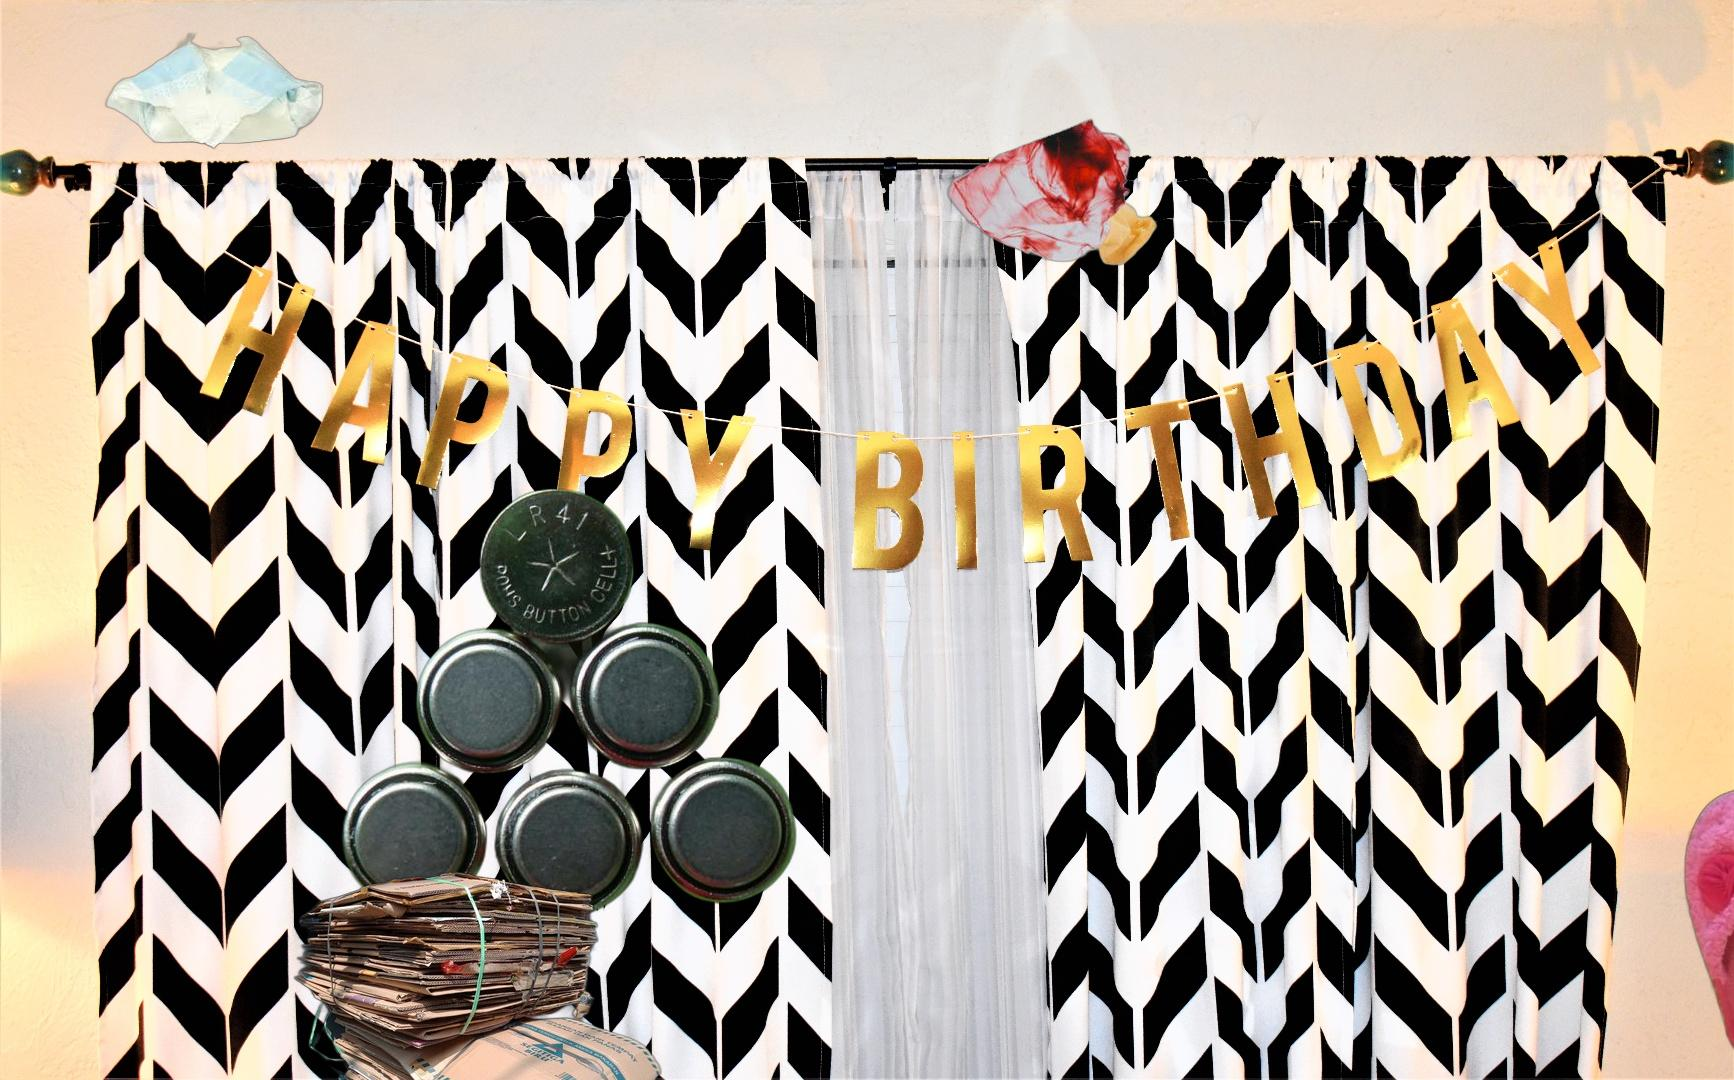battery: (338, 484, 800, 919)
plastic-bag: (944, 117, 1161, 268)
shoes: (1681, 765, 1734, 1070)
trash: (103, 31, 326, 153)
trashbox-cardboard: (289, 868, 665, 1080)
